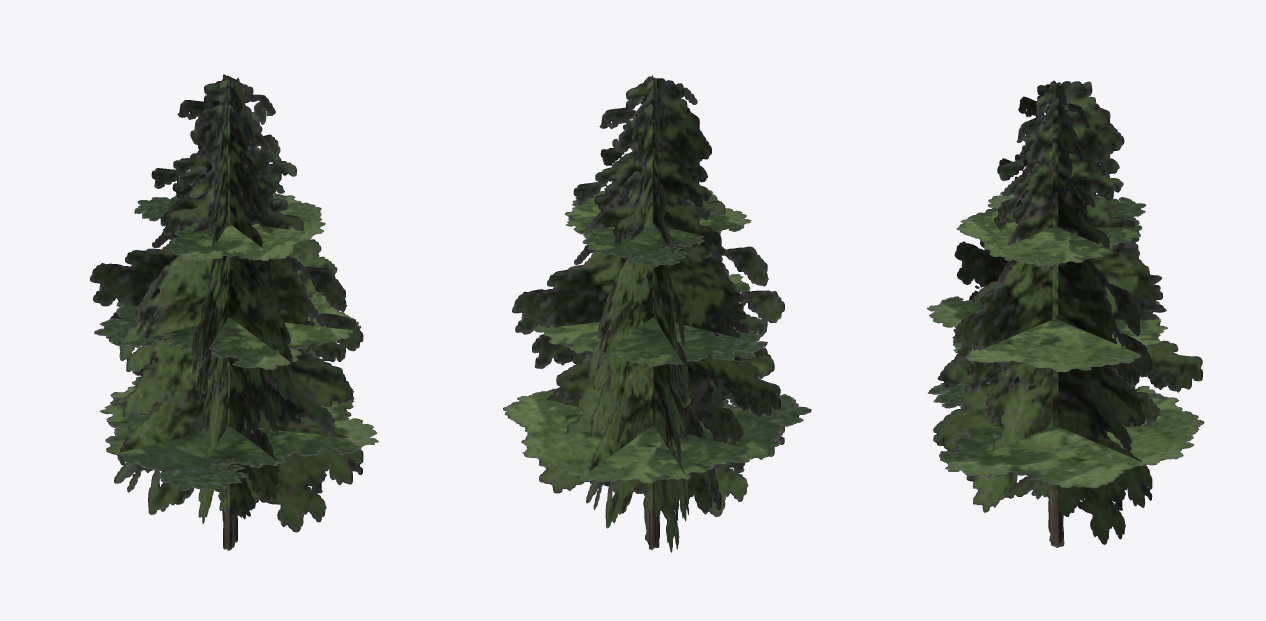
The picture shows the model from 3 angles, left to right: view 1: azimuth 30°, elevation 25°; view 2: azimuth 150°, elevation 25°; view 3: azimuth 270°, elevation 25°; orthographic projection.
Size of the model in its own units: 4.77 by 6.14 by 4.61.
1 material, 1 textured.
